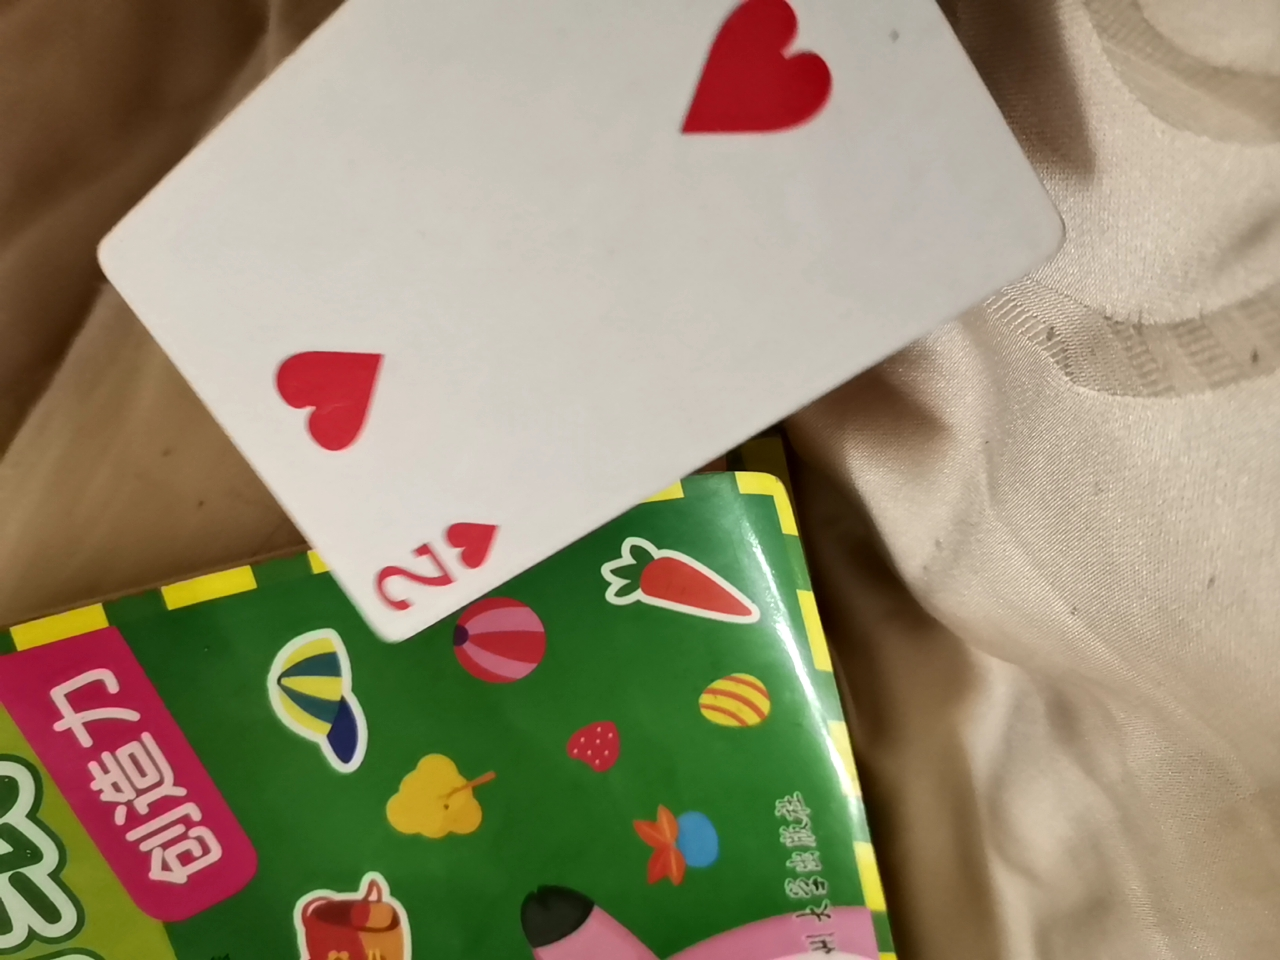hx 2: (86, 0, 1074, 663)
